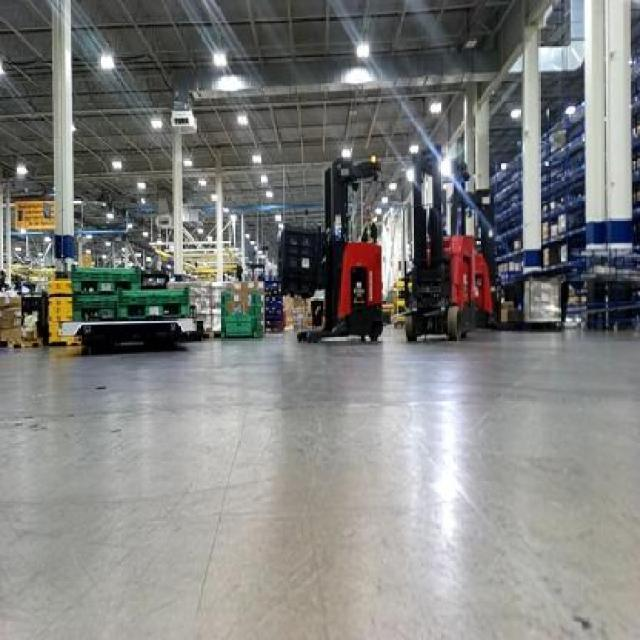forklift: (302, 146, 384, 346), (394, 142, 468, 344), (454, 185, 507, 334)
